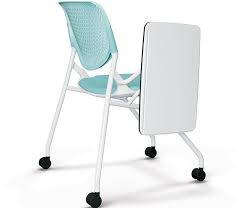desk: (27, 1, 211, 207)
